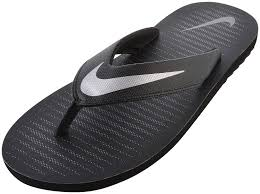nike: (71, 38, 198, 124), (180, 7, 248, 39)
